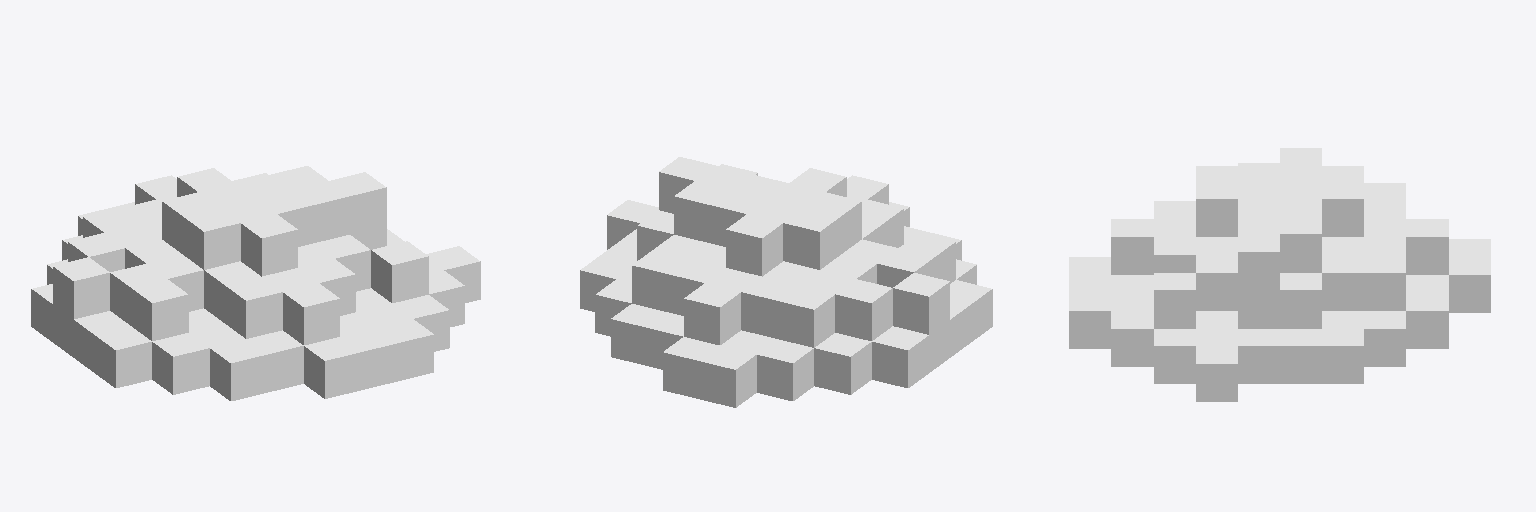
File: StonePile.obj
3 renders of one model, left to right at view 1: azimuth 30°, elevation 25°; view 2: azimuth 150°, elevation 25°; view 3: azimuth 270°, elevation 25°, orthographic.
Visible parts, largest first — view 1: StonePile; view 2: StonePile; view 3: StonePile.
Part boxes in pixels (x1,y1,x2,y2): StonePile: (31, 166, 480, 400); StonePile: (580, 157, 992, 407); StonePile: (1069, 148, 1490, 401).
Size of the model in its own units: 10 by 3 by 10.